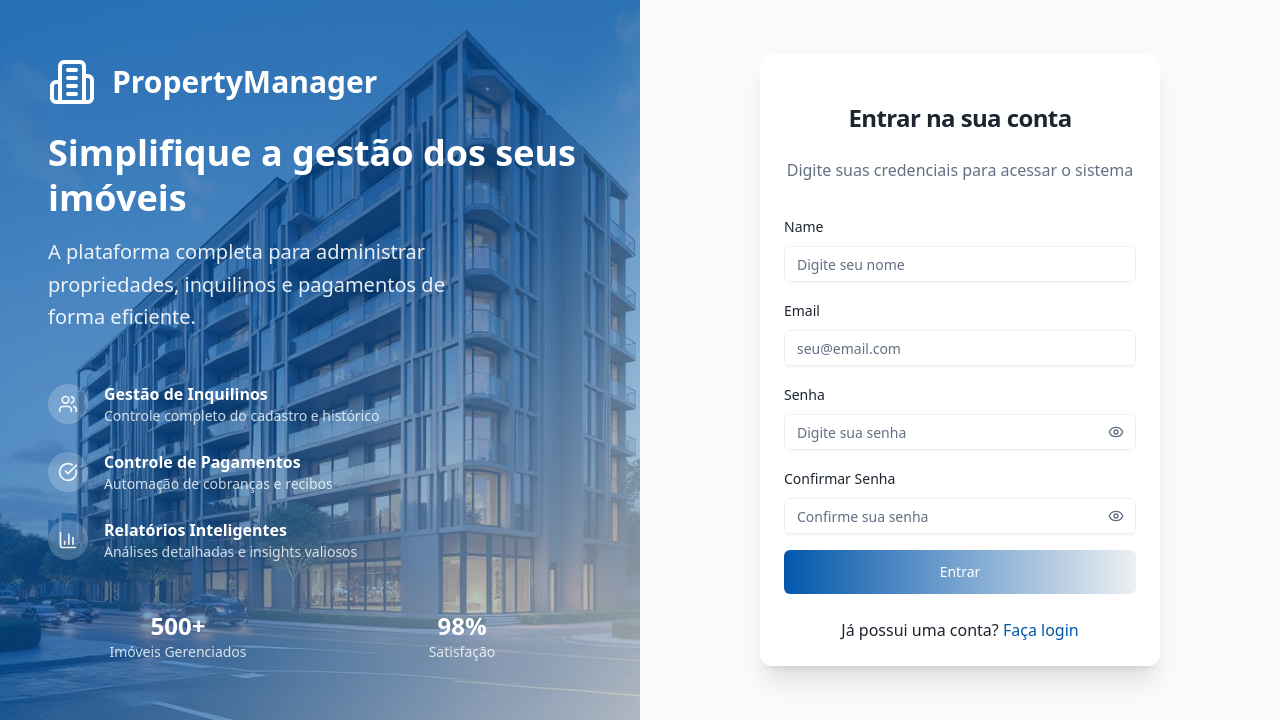
Scenario: Formulário de Registro › Validações de Campo › deve exibir erro quando as senhas não coincidem
Type "MinhaSenh@123" into the password field labelled "Senha" at (960, 432), box [784,414,1136,450]
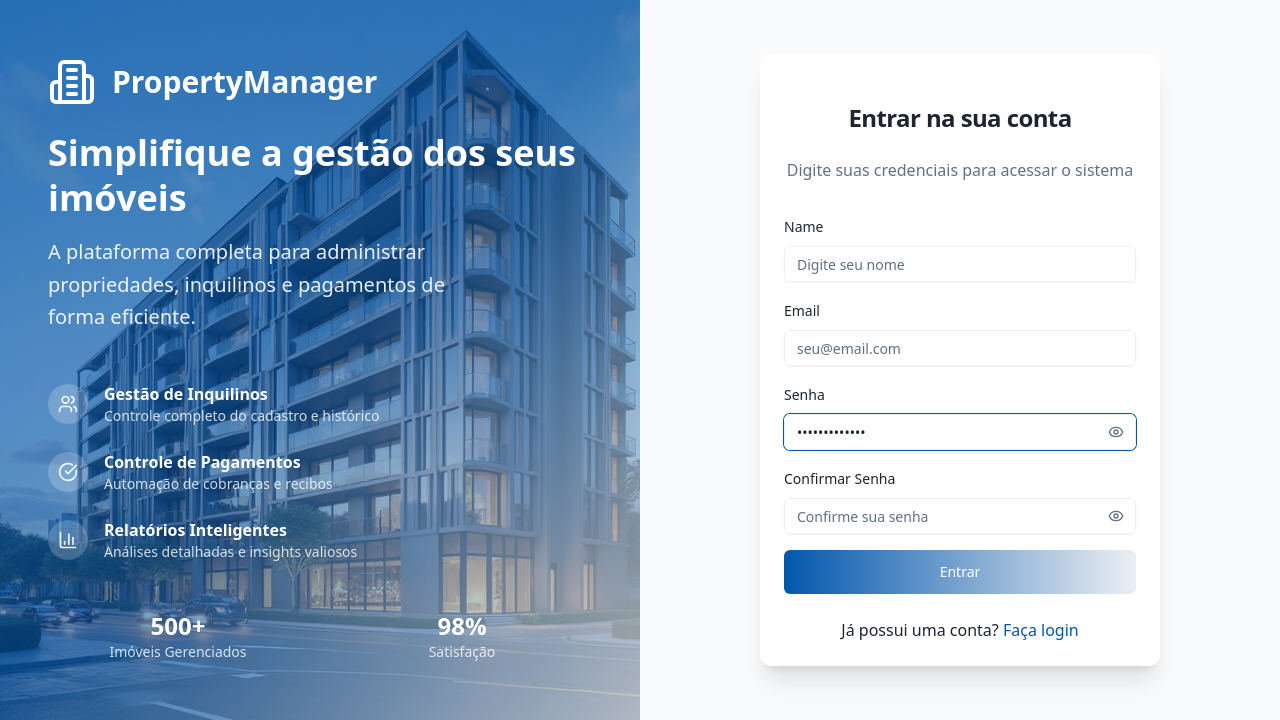
Type "SenhaDiferente123" into the password field with id "confirmPassword" at (960, 516), box [784,498,1136,534]
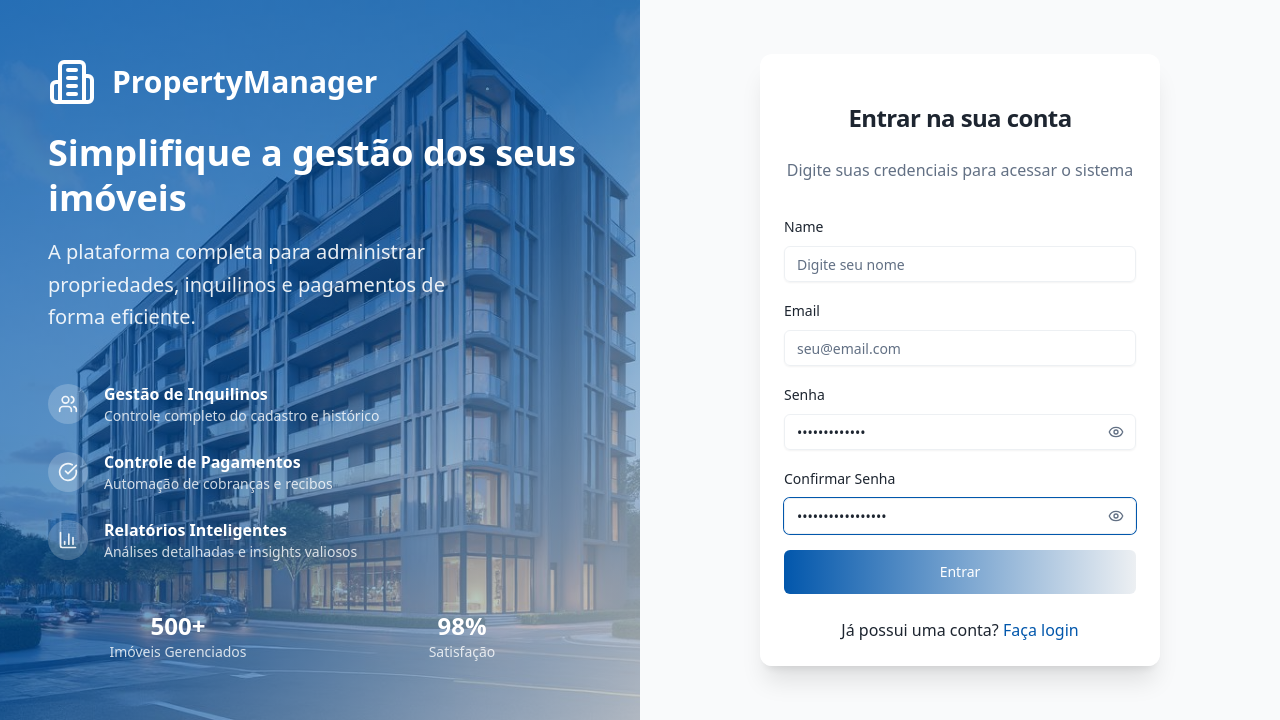
Leave the password field with id "confirmPassword", box [784,498,1136,534]
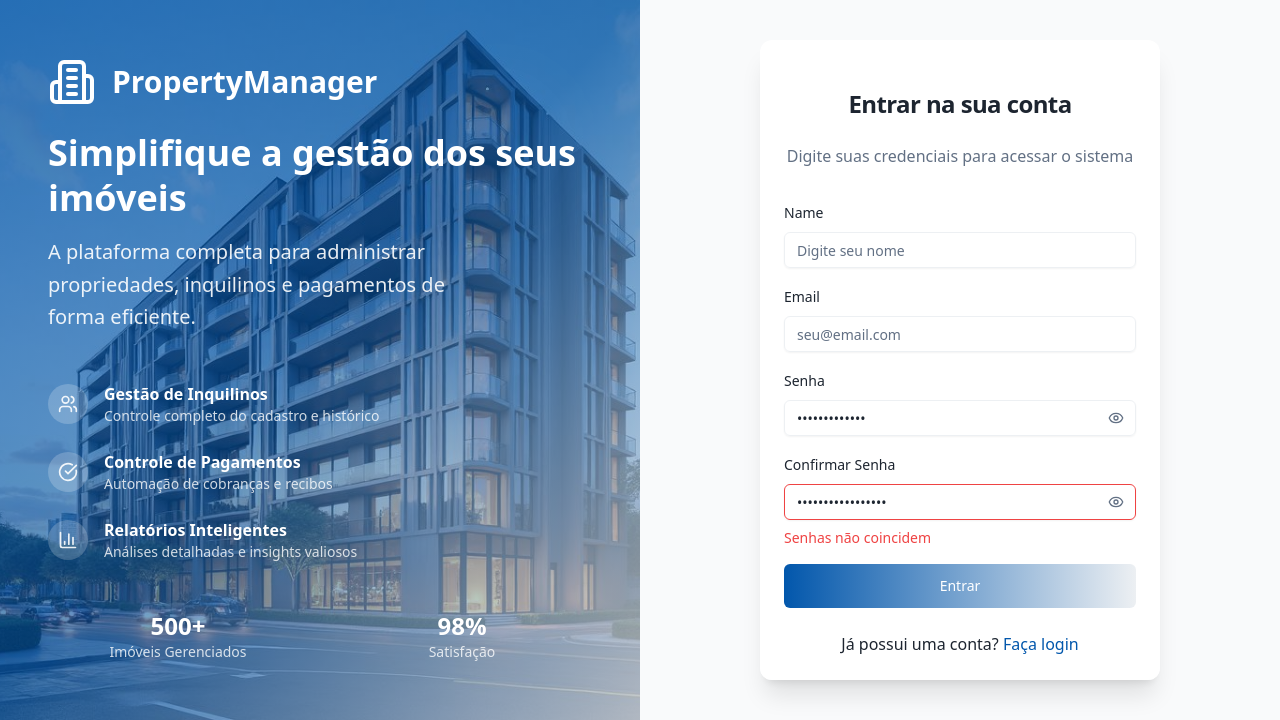
Check: the text "Senhas não coincidem" is shown, box [784,528,931,547]
